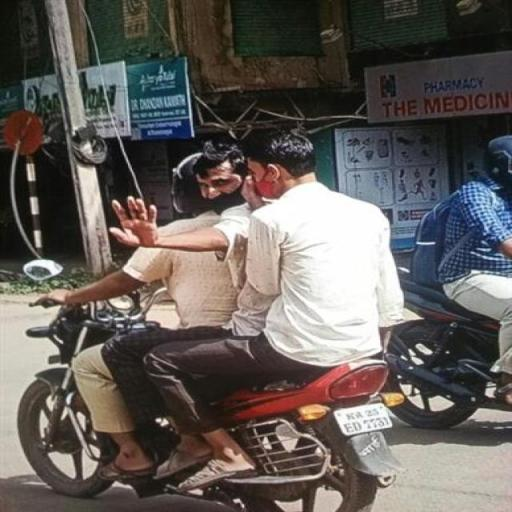tripple riding: (24, 122, 418, 358)
